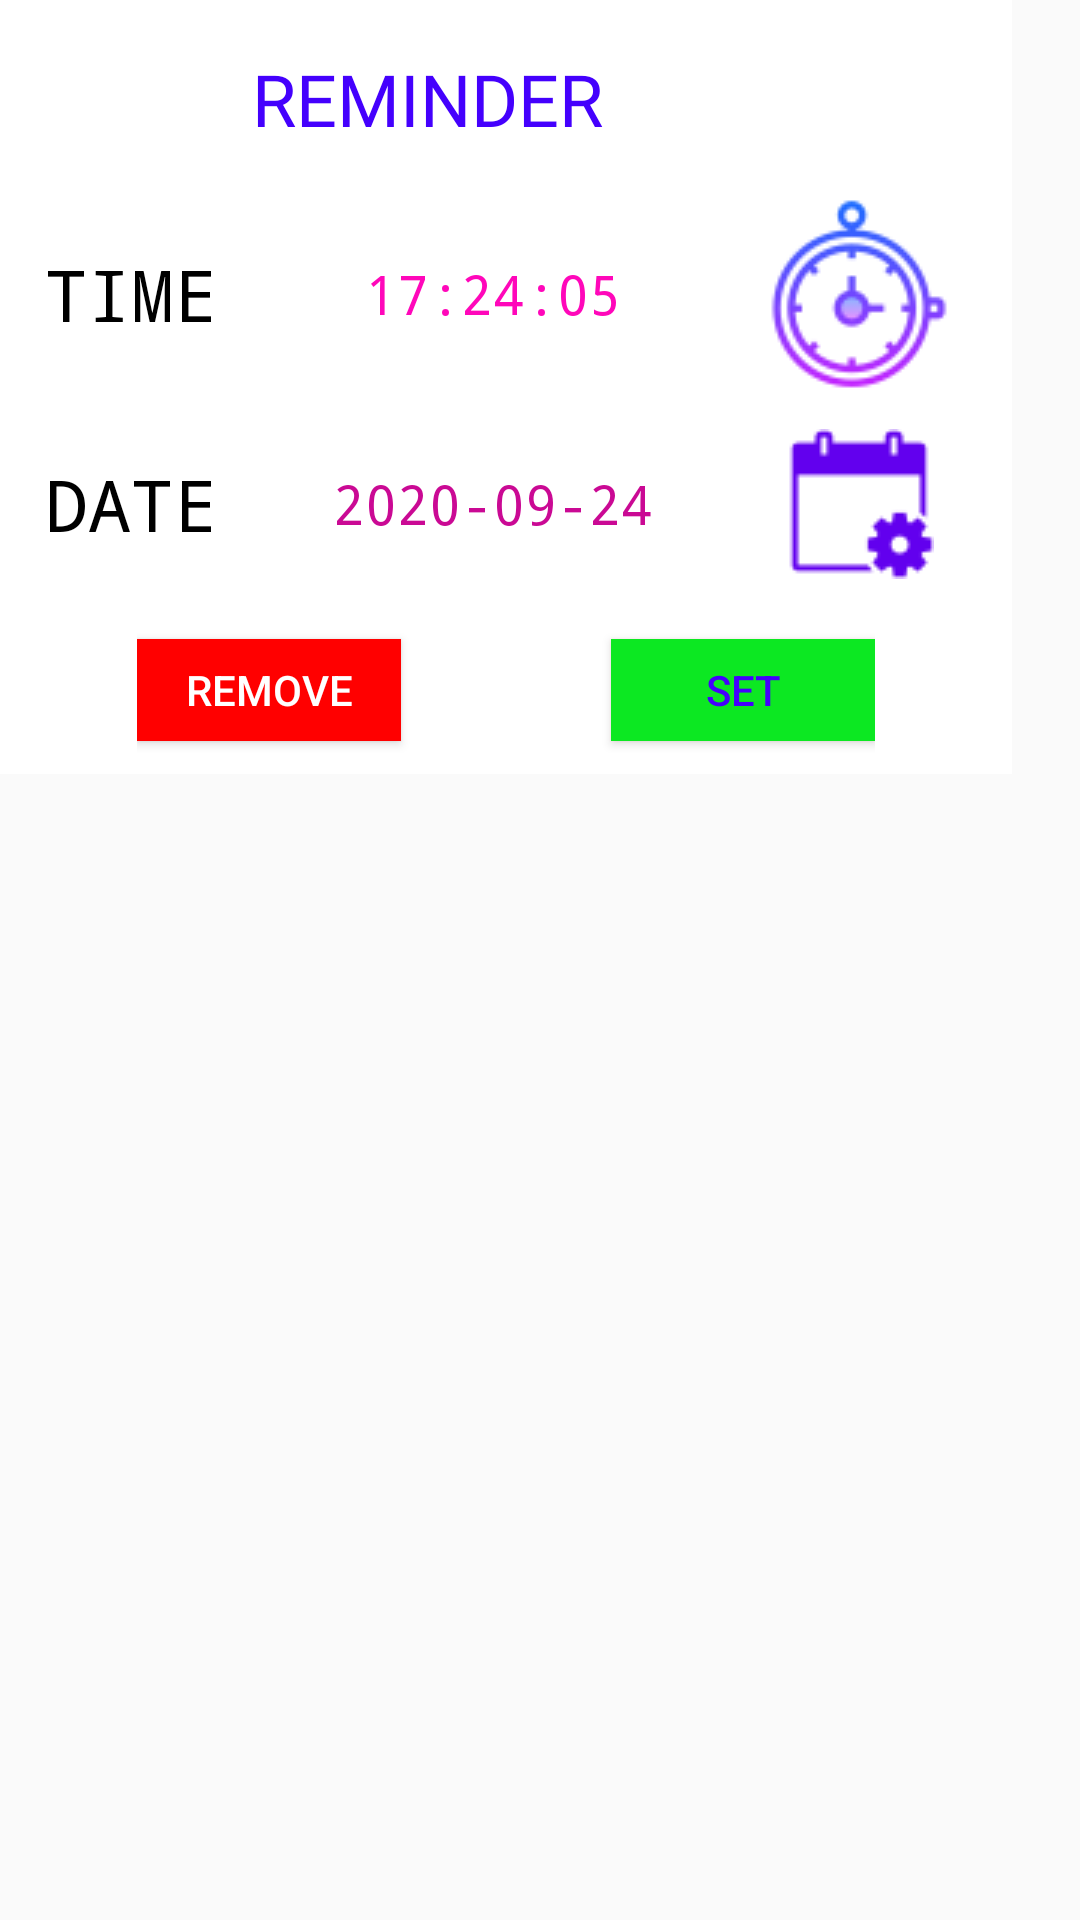

Point at icon controls on the screen. Image size 1080px×1920px, points as (x=x, y=y).
date picker: (x=861, y=504)
time picker: (x=859, y=294)
